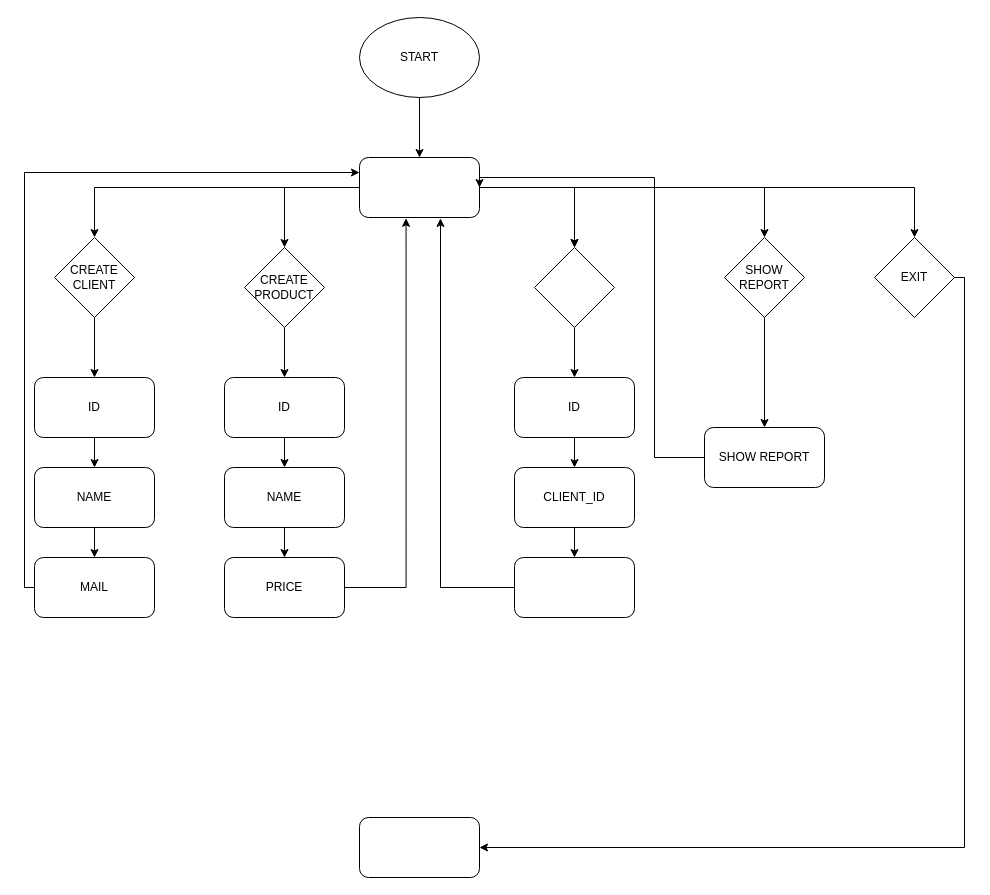
Image size: 990x895. Some labels were removed from this diagram. Here are the shapes that lost their labels. From the top down, the centre of each, then its label:
At pixel 419 187: "MENU".
At pixel 574 287: "CREATE ORDER".
At pixel 574 587: "PRODUCT_ID".
At pixel 419 847: "END".
